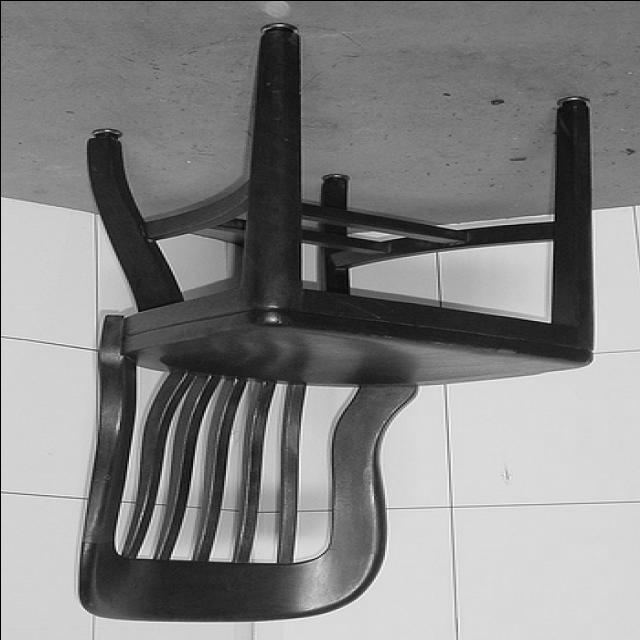chair: (74, 24, 596, 624)
